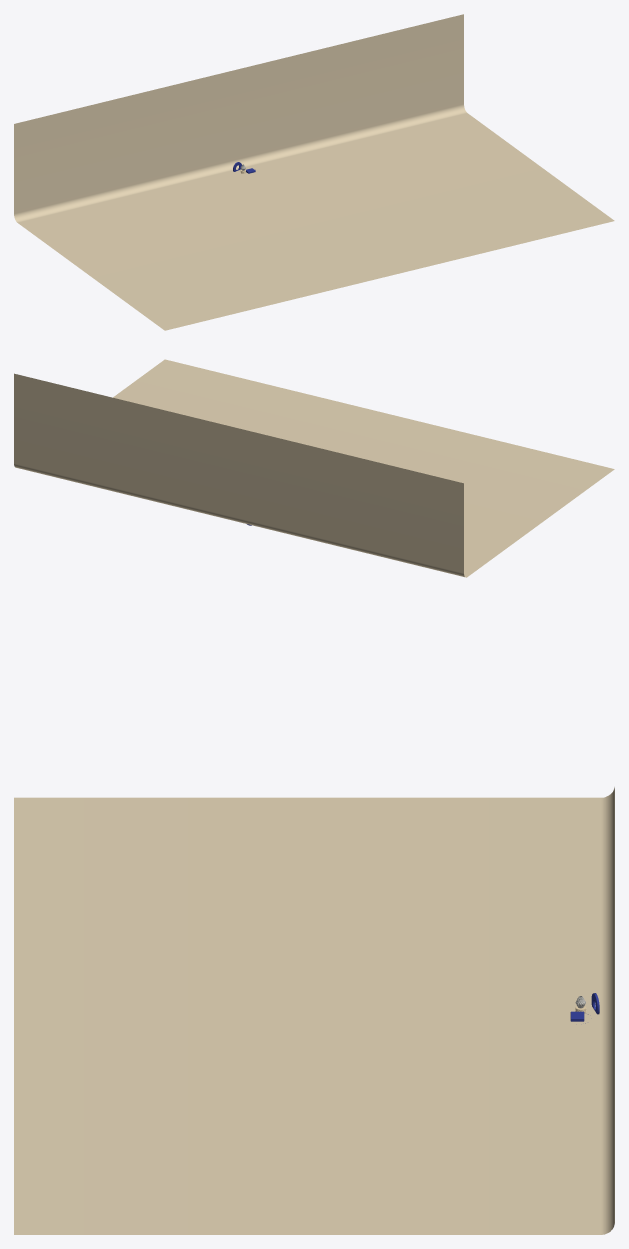
File: fluting.glb
3 views of the same model, one above another, from view 1: azimuth 30°, elevation 25°; view 2: azimuth 150°, elevation 25°; view 3: azimuth 270°, elevation 25° (orthographic). The views are drawn at different scales.
Visible parts, largest first — view 1: Cyclorama.002; view 2: Cyclorama.002; view 3: Cyclorama.002.
Boxes of the visible parts, x1=… form: Cyclorama.002: x1=14, y1=14, x2=614, y2=330; Cyclorama.002: x1=14, y1=359, x2=614, y2=577; Cyclorama.002: x1=14, y1=787, x2=614, y2=1234.
Size of the model in its own units: 220 by 46.22 by 128.
Materials: 4 (1 with a texture image).
